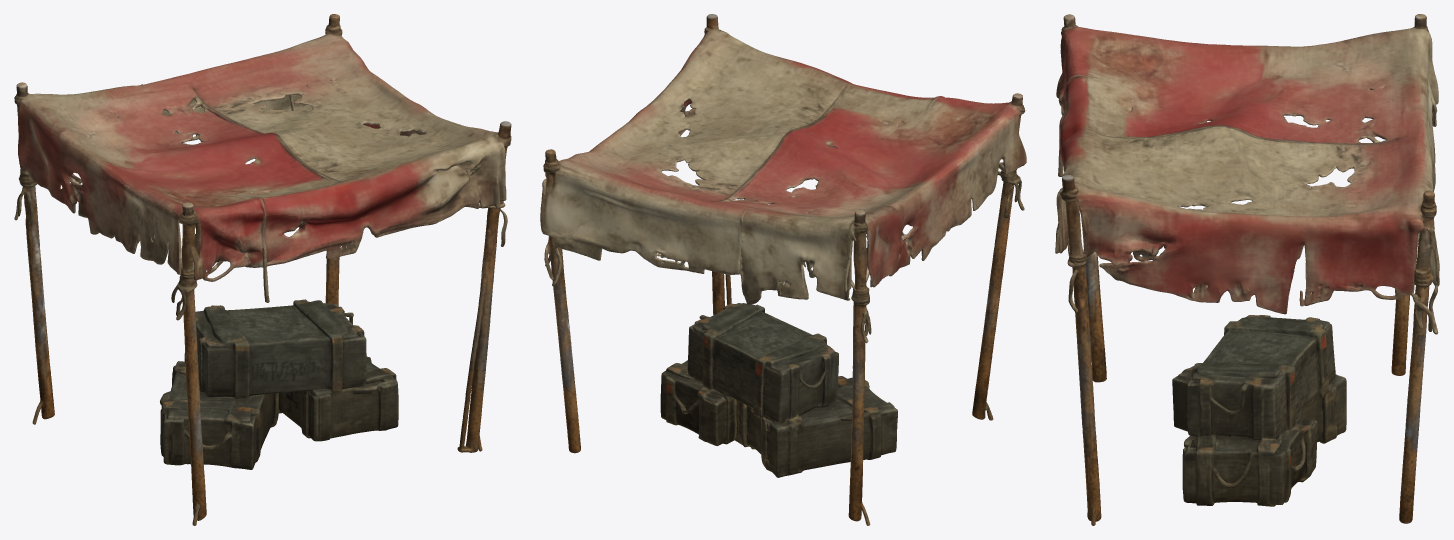
File: tent_ruin.glb
3 views of the same model, side by side, from view 1: azimuth 30°, elevation 25°; view 2: azimuth 150°, elevation 25°; view 3: azimuth 270°, elevation 25° (orthographic). The views are drawn at different scales.
Visible parts, largest first — view 1: world; view 2: world; view 3: world.
Part boxes in pixels (left/top/right/bottom): world: left=14, top=14, right=511, bottom=525; world: left=540, top=14, right=1026, bottom=525; world: left=1055, top=14, right=1439, bottom=525.
Bounding box in the file's own units: 3.2 × 3.1 × 2.99.
1 material, 1 textured.
